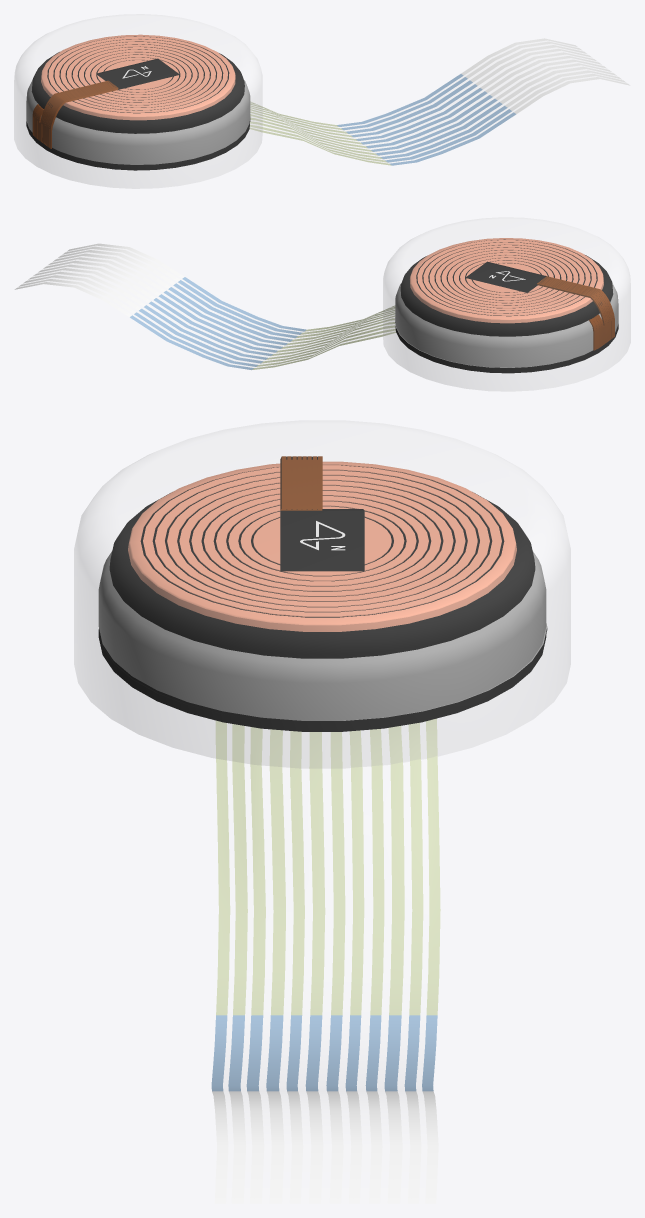
File: neuralink_chip.glb
3 renders of one model, top to bottom at view 1: azimuth 30°, elevation 25°; view 2: azimuth 150°, elevation 25°; view 3: azimuth 270°, elevation 25°, orthographic. The views are drawn at different scales.
Visible parts, largest first — view 1: Cylinder_0, Cylinder.001_1, Cylinder.002_3, Plane_2; view 2: Cylinder_0, Cylinder.001_1, Cylinder.002_3, Plane_2; view 3: Cylinder_0, Cylinder.002_3, Cylinder.001_1, Plane_2.
Boxes of the visible parts, bbox=[...] form: Cylinder_0: bbox=[14, 14, 262, 188]; Cylinder.001_1: bbox=[26, 34, 250, 170]; Cylinder.002_3: bbox=[249, 38, 630, 165]; Plane_2: bbox=[32, 58, 179, 148]; Cylinder_0: bbox=[383, 217, 630, 391]; Cylinder.001_1: bbox=[395, 238, 618, 373]; Cylinder.002_3: bbox=[14, 243, 395, 370]; Plane_2: bbox=[465, 261, 614, 350]; Cylinder_0: bbox=[74, 420, 570, 768]; Cylinder.002_3: bbox=[211, 718, 440, 1203]; Cylinder.001_1: bbox=[98, 461, 547, 731]; Plane_2: bbox=[280, 456, 364, 571].
Size of the model in its own units: 0.0369 by 0.00889 by 0.0139.
